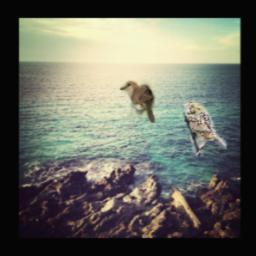Cuckoo: (120, 82, 156, 124)
Sparrow: (182, 101, 227, 157)
